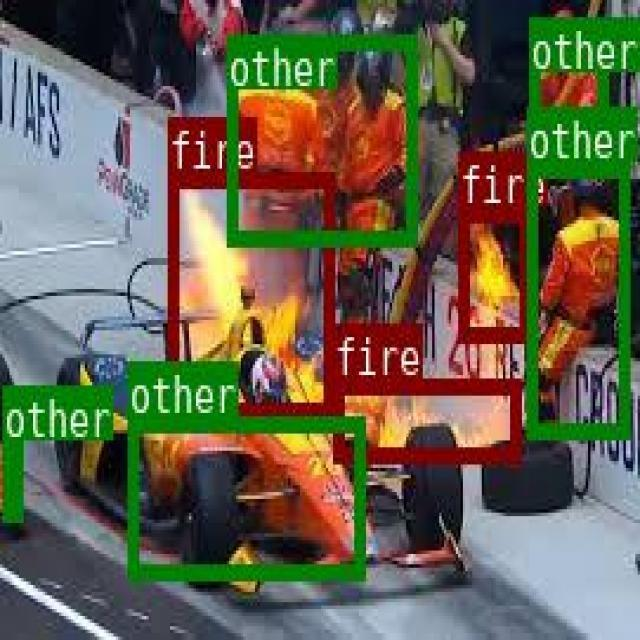fire: (167, 170, 332, 414), (331, 376, 518, 460), (457, 204, 527, 339)
